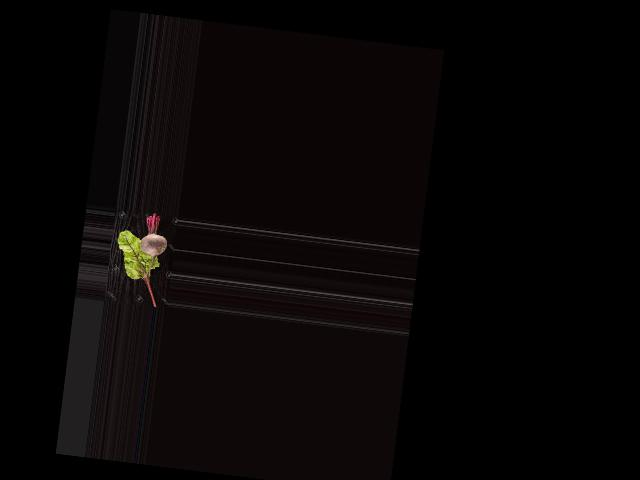beet: (136, 211, 171, 281)
